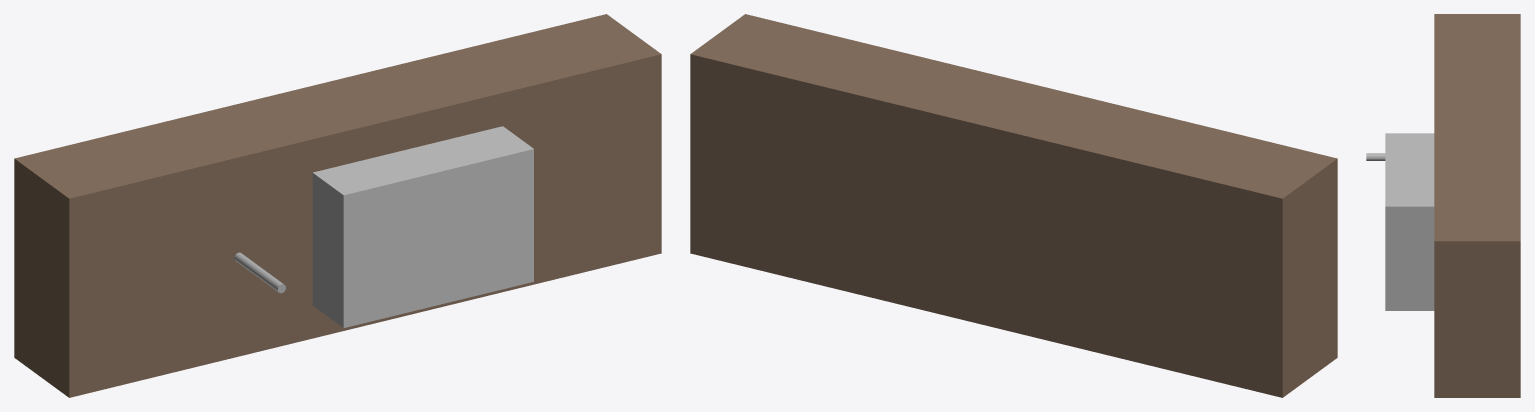
File: fishingboat_midpoly.glb
3 renders of one model, left to right at view 1: azimuth 30°, elevation 25°; view 2: azimuth 150°, elevation 25°; view 3: azimuth 270°, elevation 25°, orthographic. The views are drawn at different scales.
Parts seen in each view (by area): view 1: hull, cabin, pole; view 2: hull; view 3: hull, cabin, pole.
Part boxes in pixels (box(x1,y1,x2,y2)): hull: box(14, 14, 661, 397); cabin: box(312, 126, 533, 327); pole: box(234, 252, 285, 293); hull: box(690, 14, 1337, 397); hull: box(1434, 14, 1520, 397); cabin: box(1385, 133, 1434, 310); pole: box(1366, 153, 1385, 160).
Bounding box in the file's own units: 2.8 × 0.9 × 0.805.
